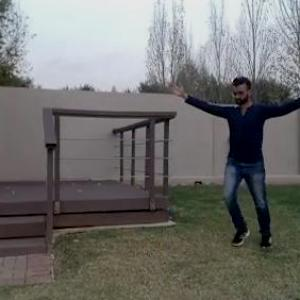takeoff: (159, 75, 299, 247)
